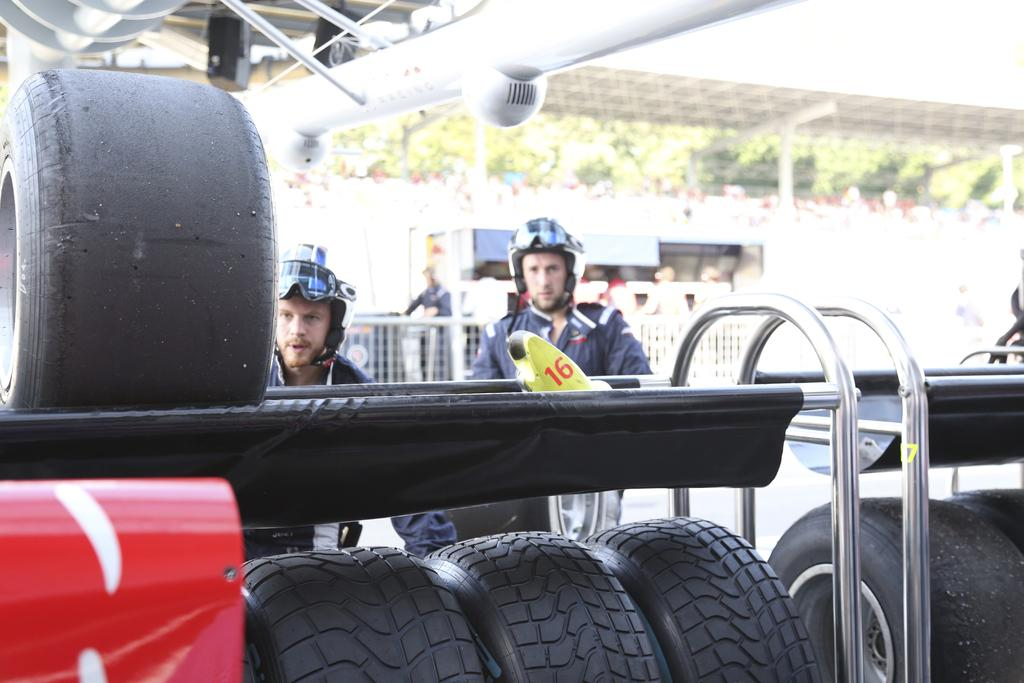helmet: (260, 243, 355, 367), (507, 217, 586, 310)
